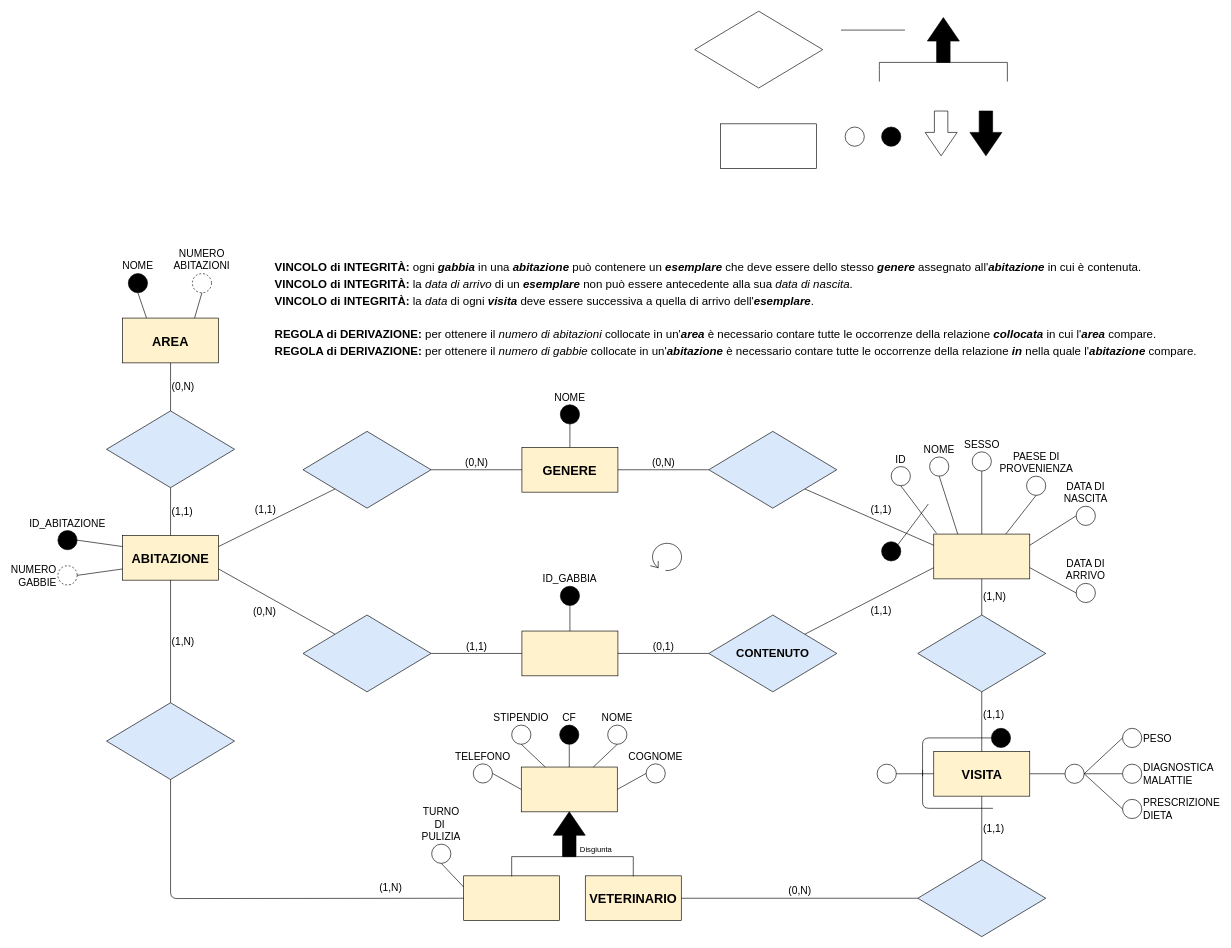
The diagram is 1231 pixels wide and 948 high, and some of its shapes have lost their labels. Here are the shapes that lost their labels. From the top down, the box of each, then its label:
(106, 410, 235, 488): COLLOCATA
(302, 431, 431, 508): ASSEGNATO
(708, 431, 837, 508): APPARTIENE
(933, 533, 1030, 579): ESEMPLARE
(302, 614, 431, 692): IN
(521, 630, 618, 676): GABBIA
(917, 614, 1046, 692): RICEVE
(106, 702, 235, 780): PULIRE
(521, 766, 617, 812): DIPENDENTE
(876, 764, 896, 783): DATA
(1064, 764, 1084, 783): RISULTATI VISITA
(463, 875, 560, 921): ADDETTO PULIZIE
(917, 859, 1046, 937): ESEGUITO
